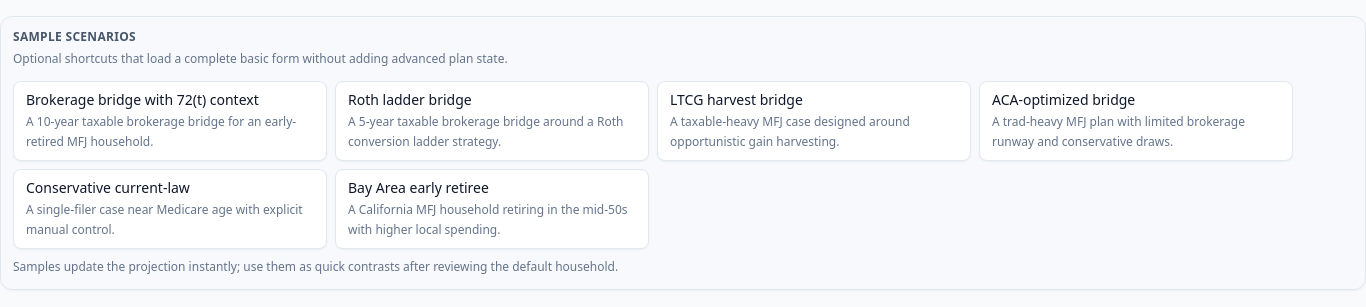
Test: StarterTemplateChooser › loads Roth ladder bridge into the scenario store and confirms the selection
The image size is (1366, 307).
Click the button "Roth ladder bridge" at (492, 121), box x1=335 y1=81 x2=649 y2=161
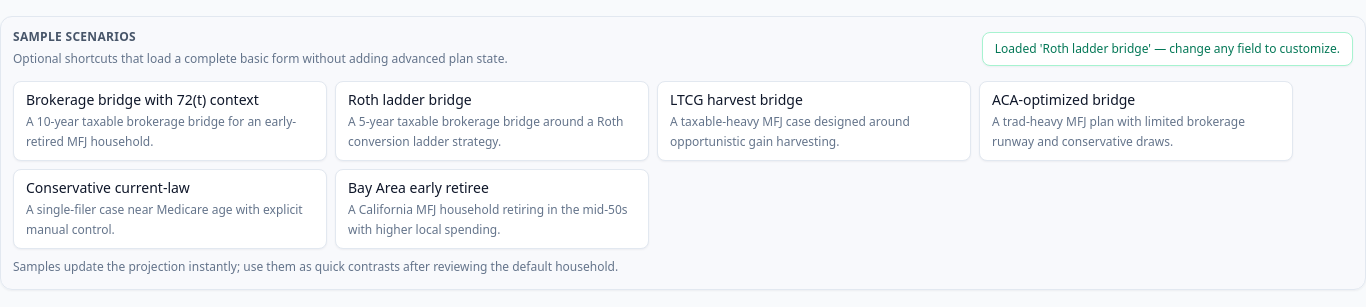
expect the message shows "change any field to customize": met, box x1=1148 y1=40 x2=1340 y2=57
